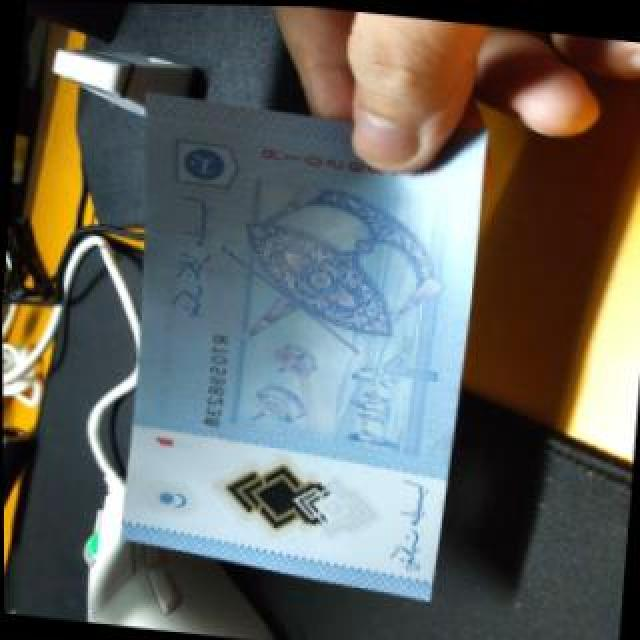1 Ringgit: (110, 88, 489, 605)
